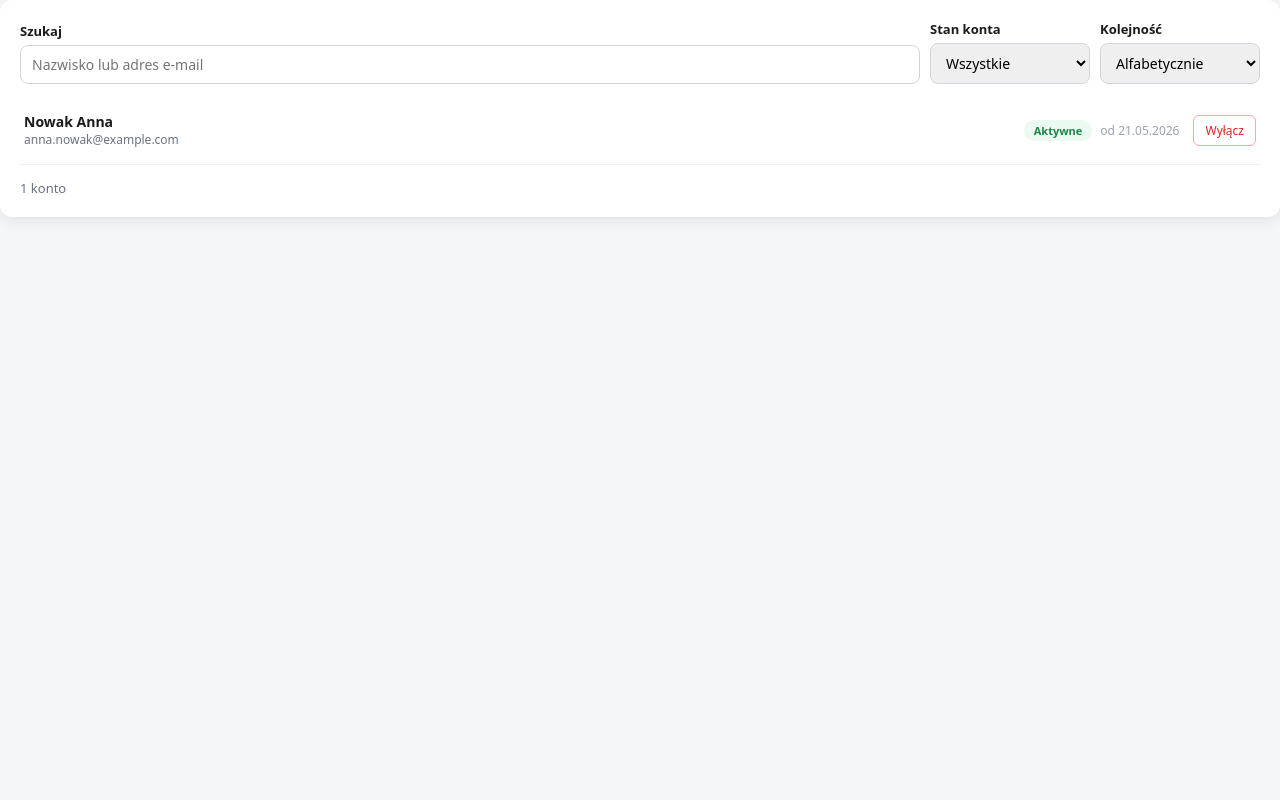
AdminUsersPage › wyłączenie konta podmienia wiersz bez ponownego pobrania listy
This screenshot has width=1280, height=800.
Expected: the text "Nowak Anna" is shown, [24,112,113,131]
Click the button "Wyłącz". click: x=1225, y=130
box: [1194,114,1256,146]
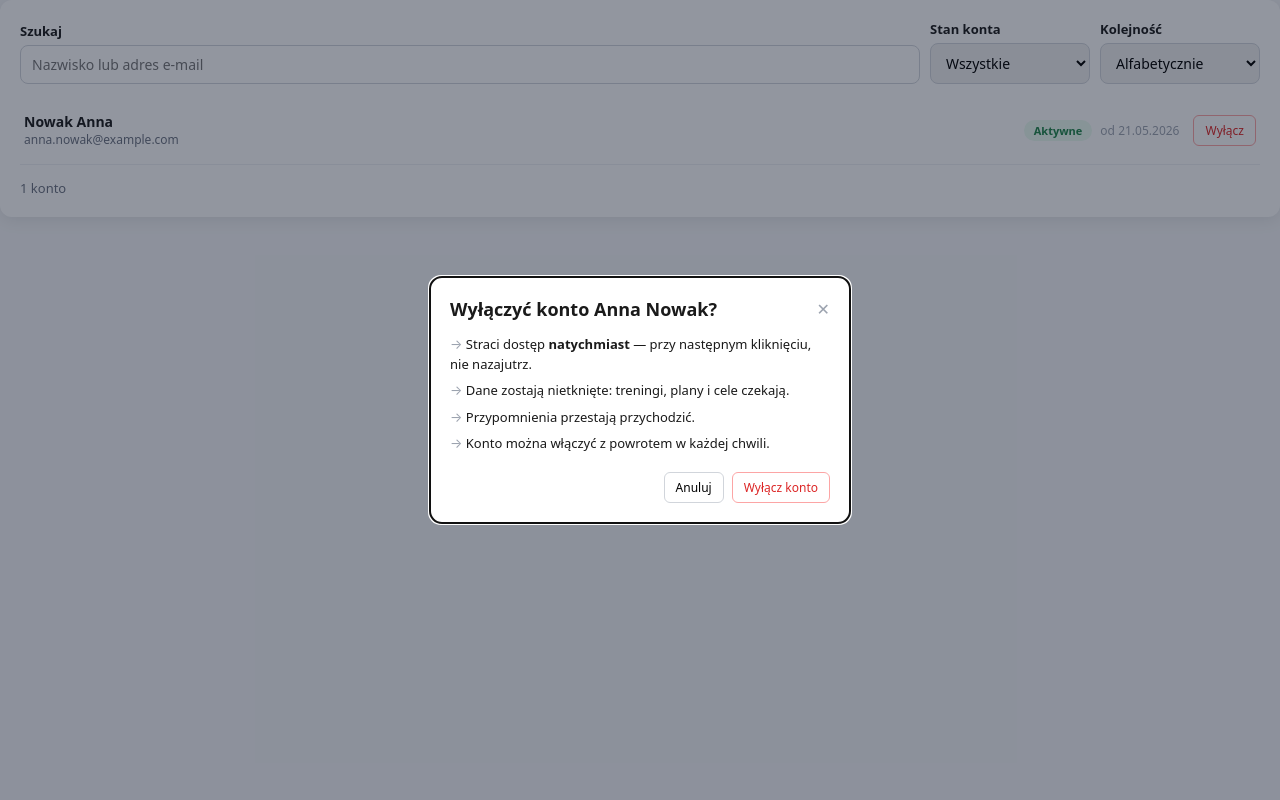
Click the button "Wyłącz konto". click: x=781, y=487
box: [732,472,830,503]
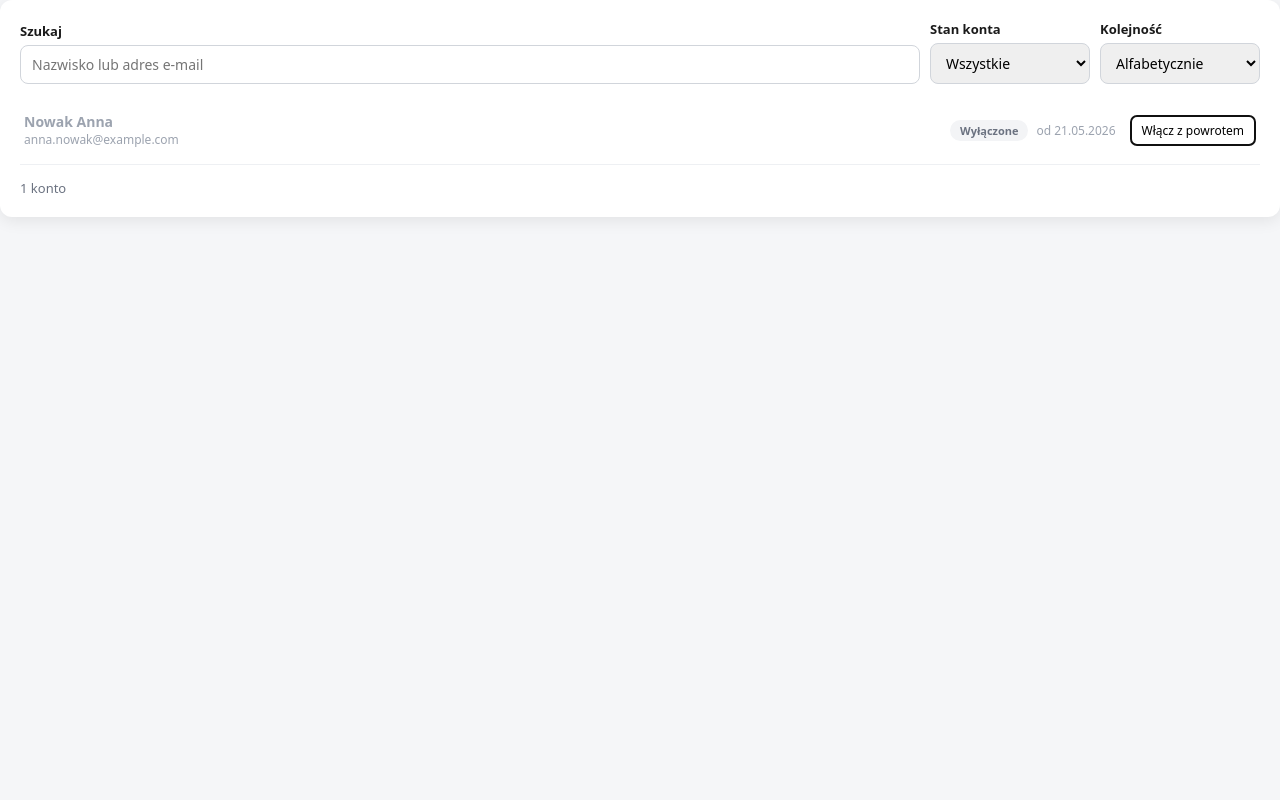
Expected: the button "Włącz z powrotem" is shown, [1130,114,1256,146]
